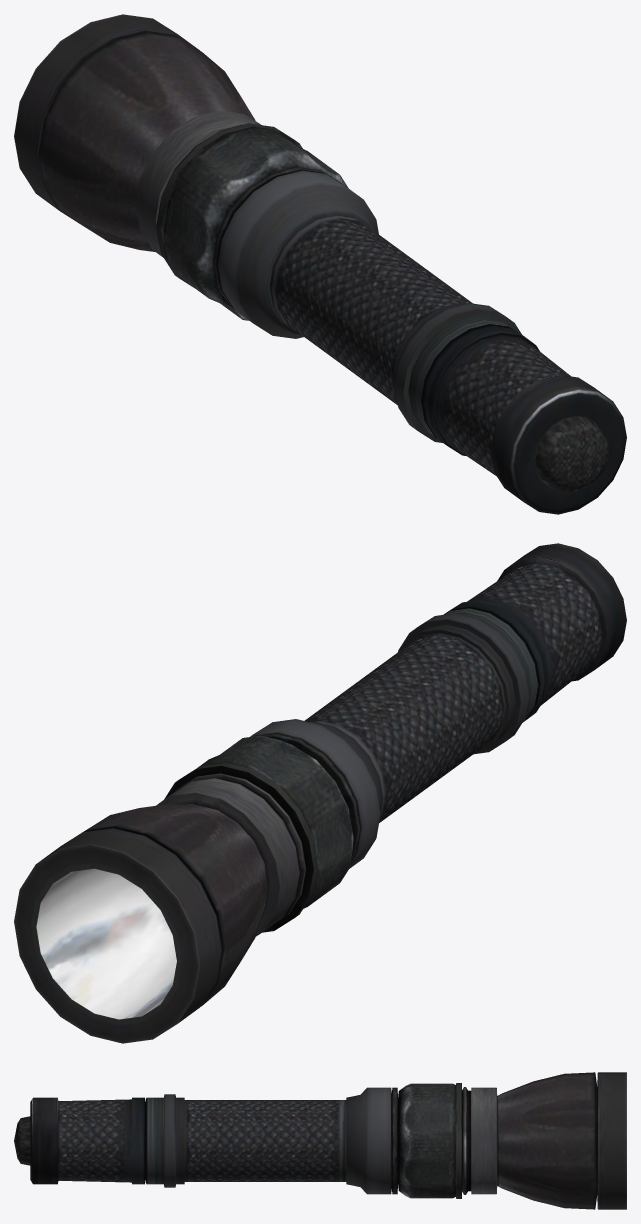
File: hand_flashlight.dae
The picture shows the model from 3 angles, top to bottom: view 1: azimuth 30°, elevation 25°; view 2: azimuth 150°, elevation 25°; view 3: azimuth 270°, elevation 25°; orthographic projection. The views are drawn at different scales.
Parts seen in each view (by area): view 1: mesh_PIVOT; view 2: mesh_PIVOT; view 3: mesh_PIVOT.
Boxes of the visible parts, bbox=[...] form: mesh_PIVOT: bbox=[14, 14, 626, 514]; mesh_PIVOT: bbox=[14, 543, 626, 1043]; mesh_PIVOT: bbox=[14, 1072, 626, 1209].
Size of the model in its own units: 3.32 by 14.79 by 3.27.
